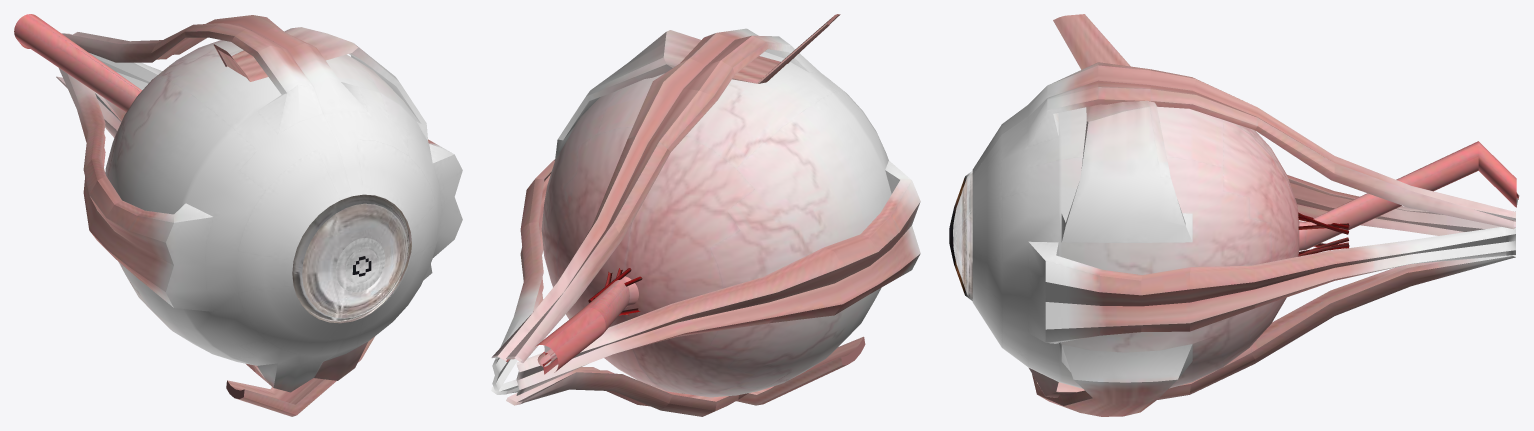
The model's file is Eyeball.gltf.
The picture shows the model from 3 angles, left to right: view 1: azimuth 30°, elevation 25°; view 2: azimuth 150°, elevation 25°; view 3: azimuth 270°, elevation 25°; orthographic projection. The views are drawn at different scales.
Visible parts, largest first — view 1: sclera_right, Sclera_Left, eye_fluid_Whole; view 2: sclera_right, Sclera_Left; view 3: Sclera_Left, sclera_right, eye_fluid_Whole.
Part boxes in pixels (<box>): sclera_right: <box>14,14,351,392</box>; Sclera_Left: <box>28,14,462,416</box>; eye_fluid_Whole: <box>292,194,411,323</box>; sclera_right: <box>506,35,920,416</box>; Sclera_Left: <box>491,15,863,406</box>; Sclera_Left: <box>972,14,1517,416</box>; sclera_right: <box>972,62,1518,339</box>; eye_fluid_Whole: <box>953,173,972,298</box>.
Bounding box in the file's own units: 1.17 × 1.34 × 1.9.
19 materials, 14 textured.
